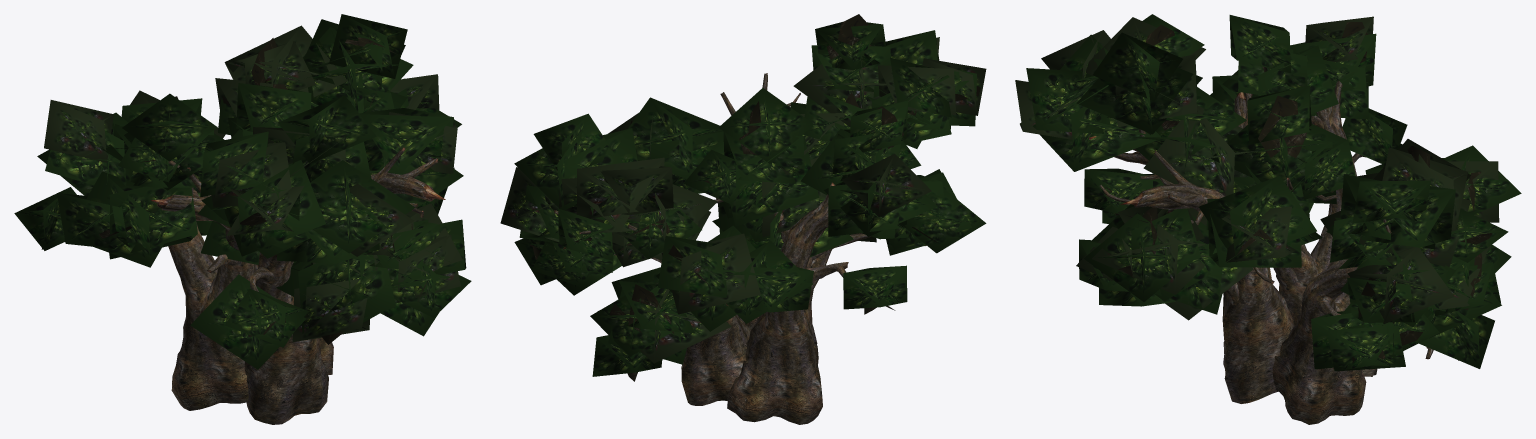
Rendered from AfricanBaobab_RT_01.fbx.
3 views of the same model, side by side, from view 1: azimuth 30°, elevation 25°; view 2: azimuth 150°, elevation 25°; view 3: azimuth 270°, elevation 25° (orthographic). The views are drawn at different scales.
Parts seen in each view (by area): view 1: AfricanBaobab_RT_01_Leafs, AfricanBaobab_RT_01; view 2: AfricanBaobab_RT_01_Leafs, AfricanBaobab_RT_01; view 3: AfricanBaobab_RT_01_Leafs, AfricanBaobab_RT_01.
Boxes of the visible parts, x1=… form: AfricanBaobab_RT_01_Leafs: x1=14, y1=14, x2=471, y2=369; AfricanBaobab_RT_01: x1=150, y1=147, x2=445, y2=424; AfricanBaobab_RT_01_Leafs: x1=500, y1=14, x2=986, y2=381; AfricanBaobab_RT_01: x1=554, y1=73, x2=926, y2=424; AfricanBaobab_RT_01_Leafs: x1=1015, y1=14, x2=1521, y2=371; AfricanBaobab_RT_01: x1=1089, y1=80, x2=1463, y2=424.
Size of the model in its own units: 13.86 by 13.82 by 10.63.
